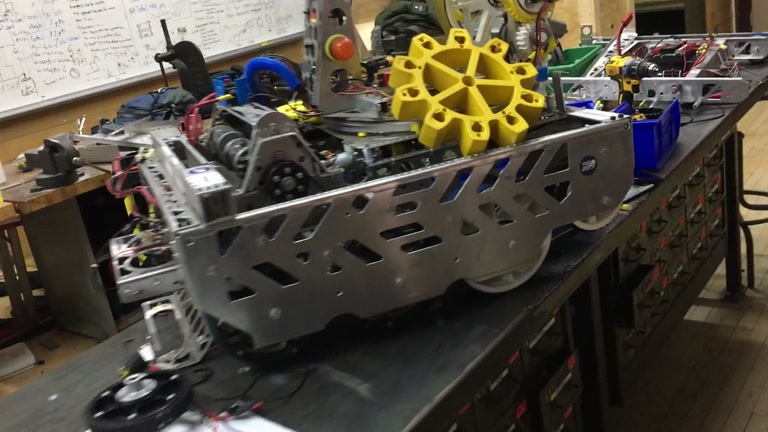gear: (389, 27, 547, 157)
